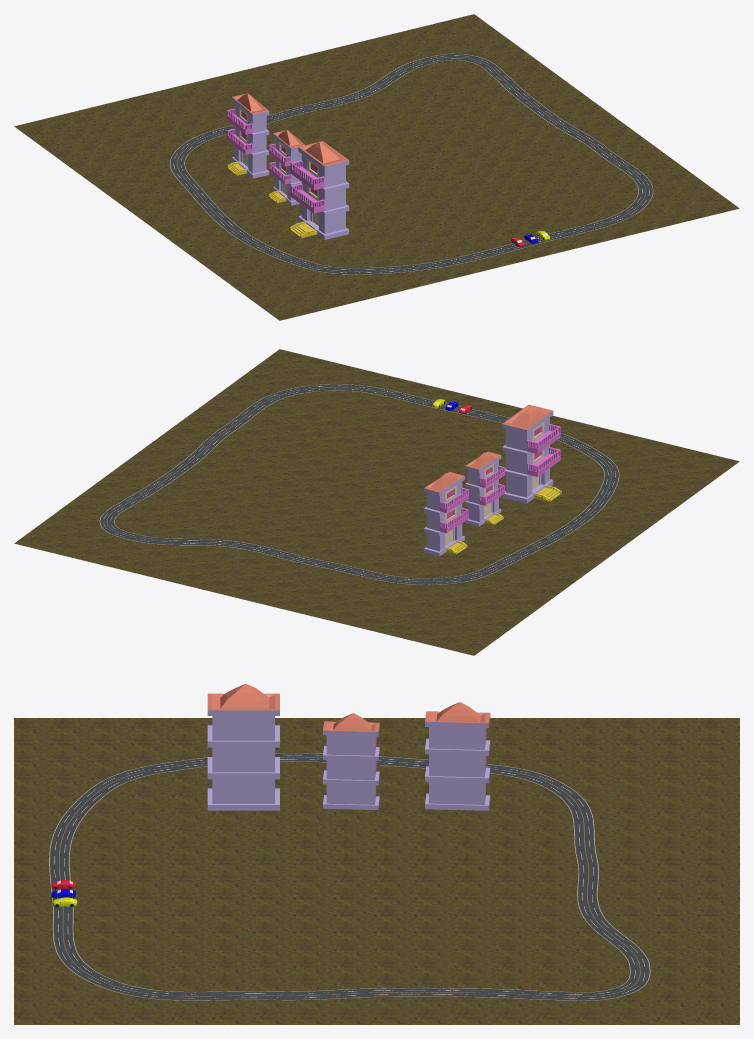
File: city.glb
The picture shows the model from 3 angles, top to bottom: view 1: azimuth 30°, elevation 25°; view 2: azimuth 150°, elevation 25°; view 3: azimuth 270°, elevation 25°; orthographic projection. The views are drawn at different scales.
Parts seen in each view (by area): view 1: 平面, 道路, 建筑1, 建筑3, 建筑2; view 2: 平面, 道路, 建筑1, 建筑3, 建筑2; view 3: 平面, 道路, 建筑1, 建筑3, 建筑2.
Part boxes in pixels (x1,y1,x2,y2): 平面: (14, 14, 739, 320); 道路: (170, 53, 653, 274); 建筑1: (289, 141, 349, 239); 建筑3: (227, 93, 269, 178); 建筑2: (268, 130, 305, 205); 平面: (14, 349, 739, 655); 道路: (99, 384, 619, 584); 建筑1: (502, 404, 561, 503); 建筑3: (424, 472, 468, 556); 建筑2: (465, 451, 504, 526); 平面: (14, 718, 739, 1024); 道路: (49, 753, 650, 1000); 建筑1: (207, 684, 279, 810); 建筑3: (425, 702, 490, 810); 建筑2: (323, 713, 379, 809).
Size of the model in its own units: 600 by 107 by 600.
17 materials, 2 textured.
